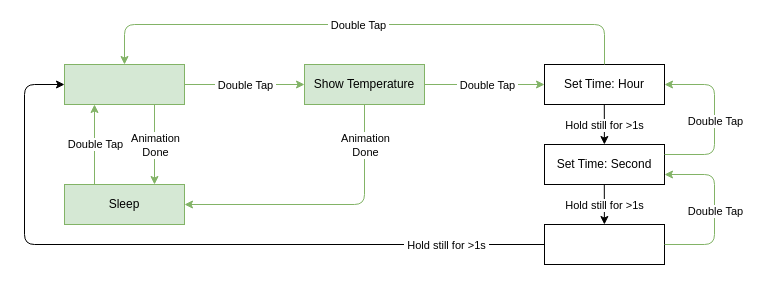
Some shapes in this 760 by 282 pixel diagram are drawn without their labels. Here are the shapes that lost their labels. From the top down, the box of each, then its label:
(64, 64, 184, 104): Show Time
(544, 224, 664, 264): Set Time: Minute
